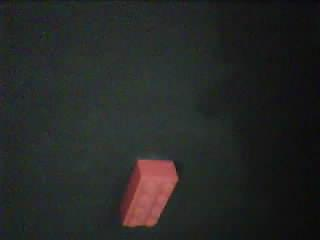lego: (117, 159, 178, 228)
